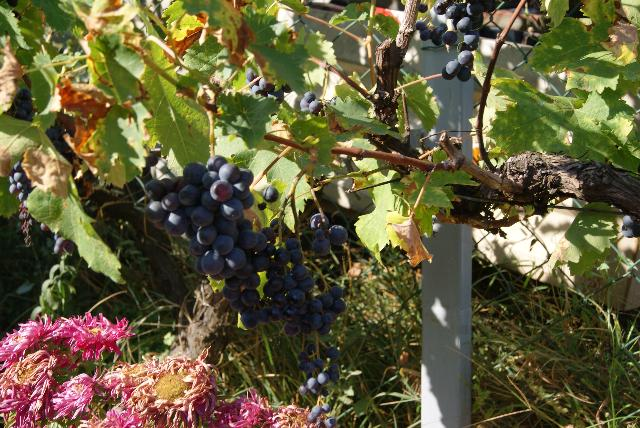grapes: (222, 219, 346, 396), (145, 155, 269, 314), (222, 238, 346, 338), (310, 214, 348, 256)
